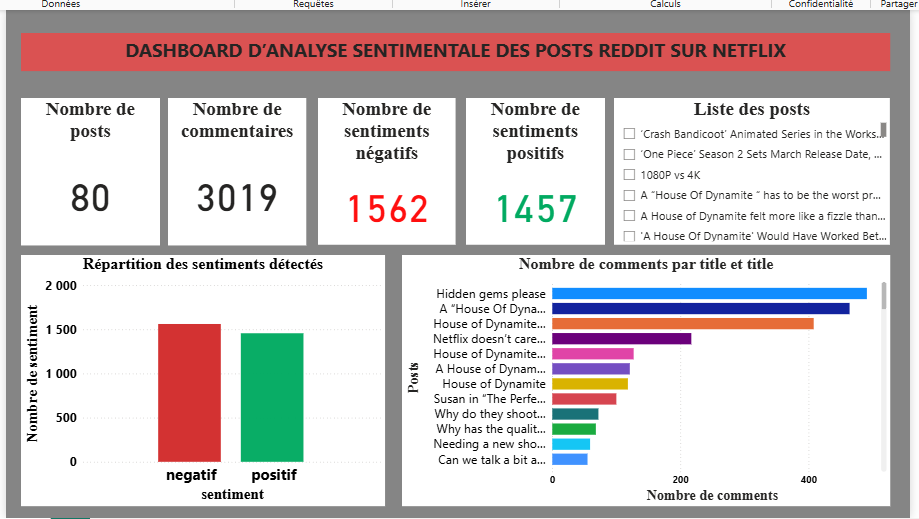

This screenshot's page, from the dashboard's own definition file:
{"tool":"powerbi","page":{"name":"Page 1","canvas":[1280,720],"ordinal":0},"visuals":[{"type":"card","title":"Nombre de commentaires","fields":{"Values":["CountNonNull(public comment.comments)"]},"box":[229.3,124.1,196,208.6],"z":0},{"type":"clusteredColumnChart","title":"Répartition des sentiments détectés","fields":{"Category":["public comment.sentiment"],"Y":["CountNonNull(public comment.sentiment)"]},"box":[21.8,347.7,515.7,356.1],"z":1000},{"type":"card","title":"Nombre de posts","fields":{"Values":["Count(public comment.title)"]},"box":[20.7,124.1,196.6,208.6],"z":2000},{"type":"card","title":"Nombre de sentiments négatifs","fields":{"Values":["CountNonNull(public comment.sentiment)"]},"box":[441.8,124.3,194.9,208.3],"z":3000},{"type":"card","title":"Nombre de sentiments positifs","fields":{"Values":["CountNonNull(public comment.sentiment)"]},"box":[651.8,124.3,196.5,208.3],"z":4000},{"type":"slicer","title":"Liste des posts","fields":{"Values":["public comment.title"]},"box":[861.7,124.3,391.4,208.3],"z":5000},{"type":"barChart","fields":{"Category":["public comment.title"],"Y":["CountNonNull(public comment.comments)"],"Series":["public comment.title"]},"box":[561,347.7,692.1,356.1],"z":6000},{"type":"textbox","box":[21.3,32.6,1231.7,53.9],"z":7000}]}

Visuals, with their boxes in screenshot pixels (x1, y1, x2, y2):
"Nombre de commentaires" card: BBox(165, 95, 304, 243)
"Répartition des sentiments détectés" clusteredColumnChart: BBox(18, 253, 383, 505)
"Nombre de posts" card: BBox(17, 95, 156, 243)
"Nombre de sentiments négatifs" card: BBox(315, 95, 453, 243)
"Nombre de sentiments positifs" card: BBox(464, 95, 603, 243)
"Liste des posts" slicer: BBox(613, 95, 890, 243)
barChart - public comment.title x CountNonNull(public comment.comments): BBox(400, 253, 890, 505)
textbox: BBox(17, 30, 890, 68)
